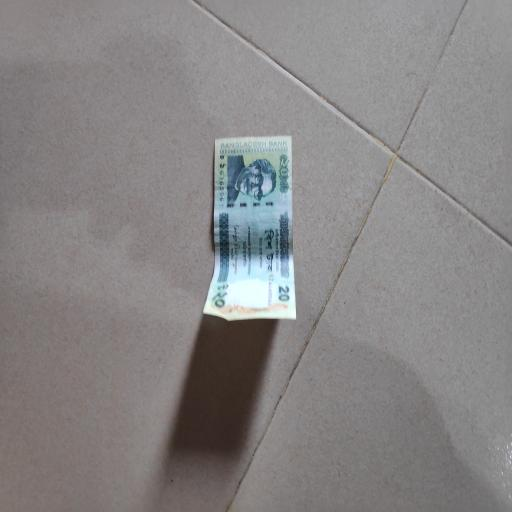20taka: (204, 137, 298, 320)
